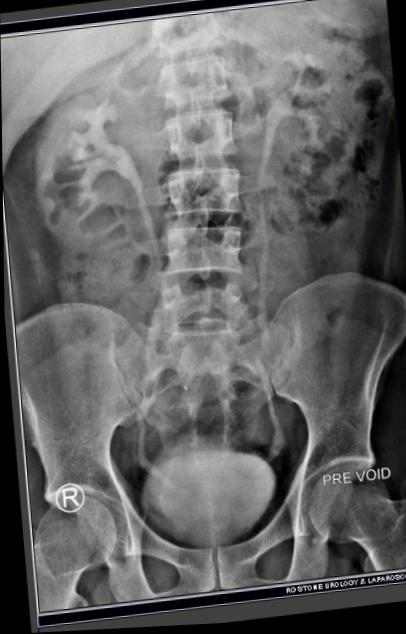bladder: (120, 444, 280, 586)
right kidney: (15, 74, 147, 278)
vertebrae: (147, 47, 239, 110)
